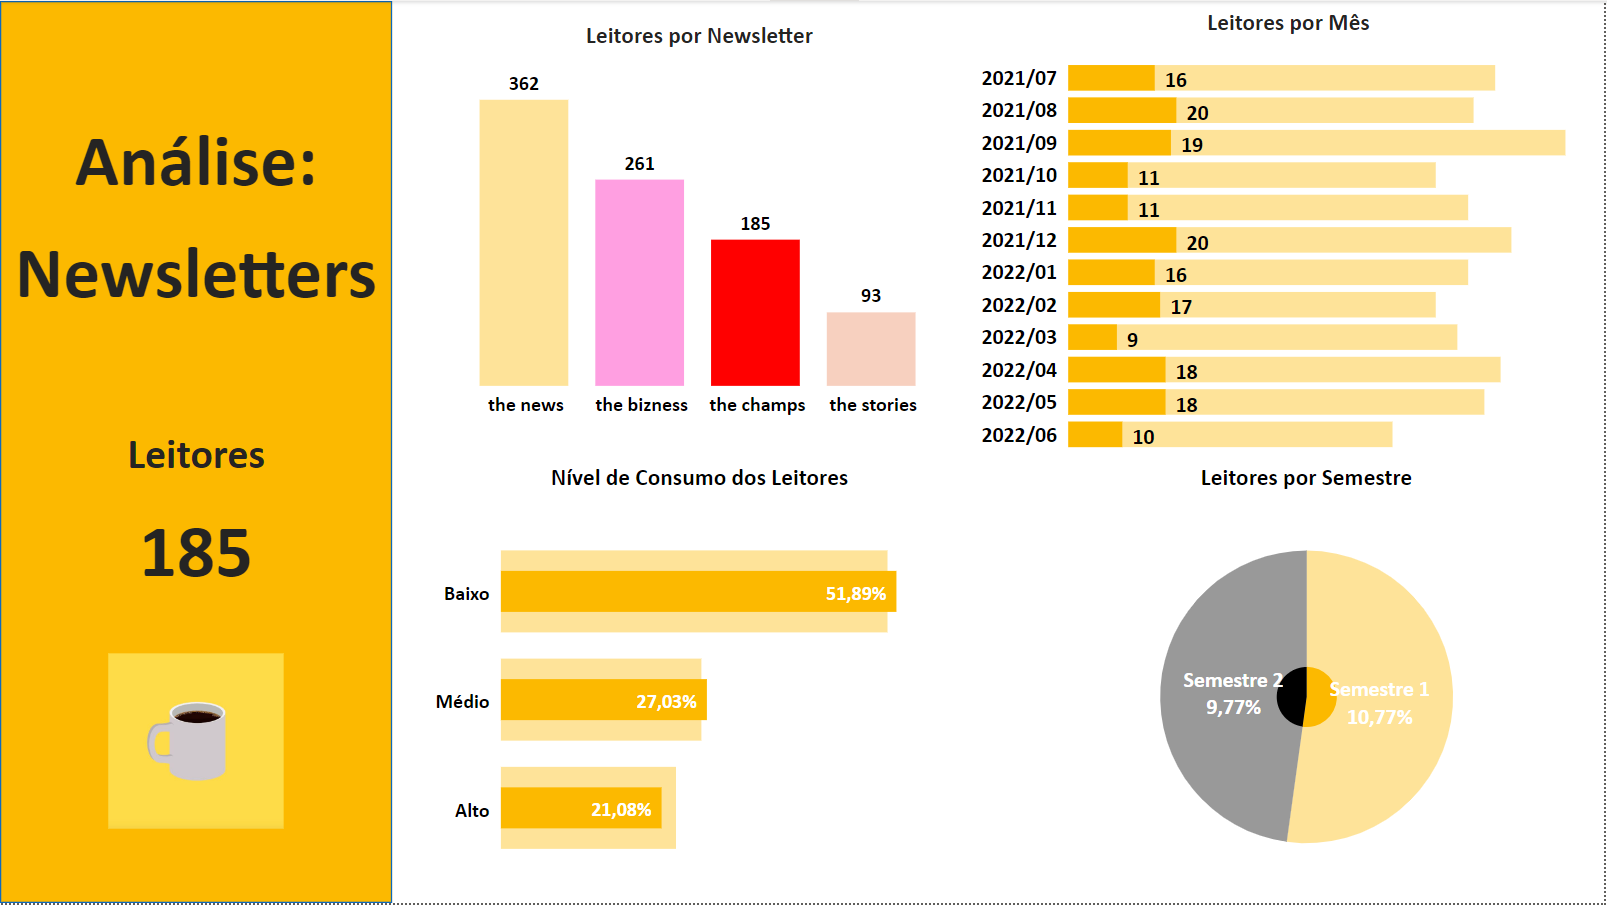

This screenshot's page, from the dashboard's own definition file:
{"tool":"powerbi","page":{"name":"Newsletters","canvas":[1280,720],"ordinal":1},"visuals":[{"type":"clusteredColumnChart","title":"Leitores por Newsletter","fields":{"Category":["dados_limpos.Newsletter"],"Y":["CountNonNull(dados_limpos.codigo)"]},"box":[340.6,15.2,435.2,325.4],"z":0},{"type":"clusteredBarChart","title":"Leitores por Mês","fields":{"Category":["dados_limpos.lastOpened.Variation.Hierarquia de datas.Mês"],"Y":["CountNonNull(dados_limpos.codigo)"]},"box":[811.3,5.1,469,367.6],"z":1000},{"type":"clusteredBarChart","title":"Nível de Consumo dos Leitores","fields":{"Y":["CountNonNull(dados_limpos.codigo)"],"Category":["dados_limpos.Consumo"]},"box":[340.6,367.6,435.2,352.4],"z":2000},{"type":"pieChart","title":"Leitores por Semestre","fields":{"Category":["dados_limpos.Semestre"],"Y":["CountNonNull(dados_limpos.codigo)"]},"box":[811.3,367.6,463.9,352.4],"z":3000},{"type":"shape","box":[0,0,312.7,720],"z":3500},{"type":"textbox","box":[0,86.3,313.1,206.1],"z":4000},{"type":"card","title":"Leitores","fields":{"Values":["CountNonNull(dados_limpos.codigo)"]},"box":[0,340.7,313.1,143.2],"z":4001},{"type":"image","box":[81.1,487.6,150.4,206.2],"z":4002}]}

Visuals, with their boxes in screenshot pixels (x1, y1, x2, y2), scaled from the page's 1280x720 canvas onto the 1607x905 screenshot:
"Leitores por Newsletter" clusteredColumnChart: bbox=(428, 19, 974, 428)
"Leitores por Mês" clusteredBarChart: bbox=(1019, 6, 1606, 468)
"Nível de Consumo dos Leitores" clusteredBarChart: bbox=(428, 462, 974, 904)
"Leitores por Semestre" pieChart: bbox=(1019, 462, 1601, 904)
shape: bbox=(0, 0, 393, 904)
textbox: bbox=(0, 108, 393, 368)
"Leitores" card: bbox=(0, 428, 393, 608)
image: bbox=(102, 613, 291, 872)
